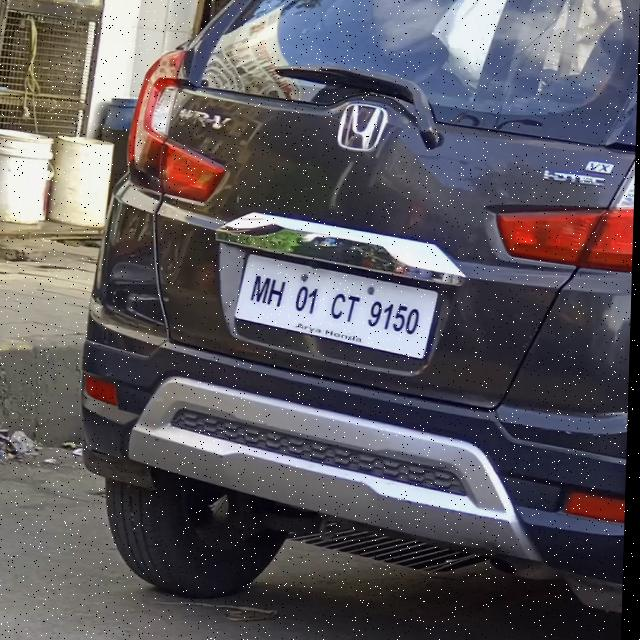plate: (234, 249, 443, 362)
